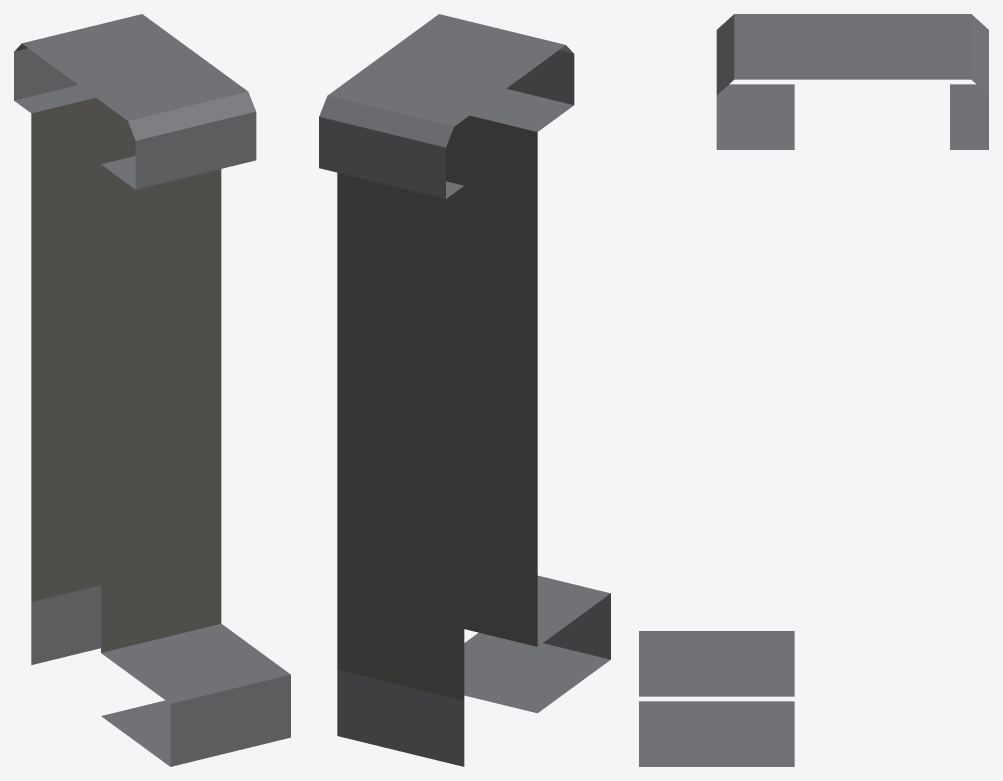
File: SM_Roof_Plug.fbx
The picture shows the model from 3 angles, left to right: view 1: azimuth 30°, elevation 25°; view 2: azimuth 150°, elevation 25°; view 3: azimuth 270°, elevation 25°; orthographic projection. The views are drawn at different scales.
Visible parts, largest first — view 1: SM_Roof_Plug; view 2: SM_Roof_Plug; view 3: SM_Roof_Plug.
Part boxes in pixels (left/top/right/bottom): SM_Roof_Plug: left=14, top=14, right=290, bottom=766; SM_Roof_Plug: left=319, top=14, right=610, bottom=766; SM_Roof_Plug: left=639, top=14, right=988, bottom=766.
Size of the model in its own units: 20 by 97.55 by 45.
